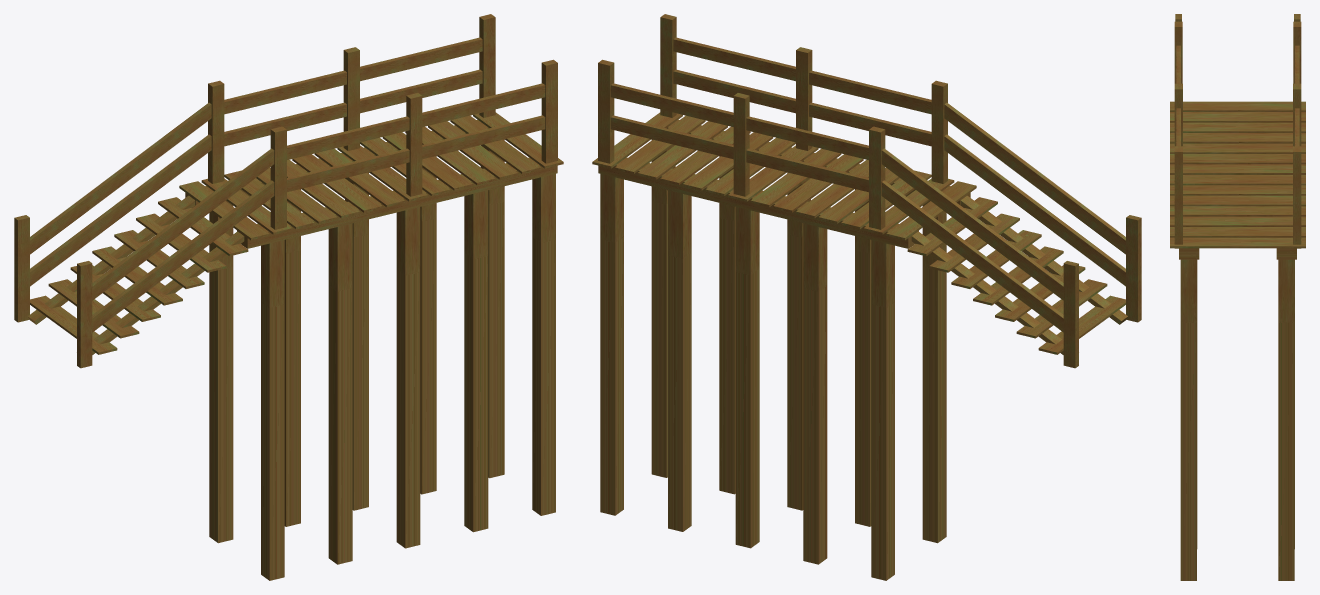
Rendered from bridge.glb.
The picture shows the model from 3 angles, left to right: view 1: azimuth 30°, elevation 25°; view 2: azimuth 150°, elevation 25°; view 3: azimuth 270°, elevation 25°; orthographic projection. The views are drawn at different scales.
Parts seen in each view (by area): view 1: bridge; view 2: bridge; view 3: bridge.
Part boxes in pixels (left/top/right/bottom): bridge: left=14, top=14, right=563, bottom=580; bridge: left=592, top=14, right=1141, bottom=580; bridge: left=1170, top=14, right=1305, bottom=580.
Size of what is drawn, in the model's own units: 7.74 by 6.96 by 2.
Materials: 1 (1 with a texture image).
